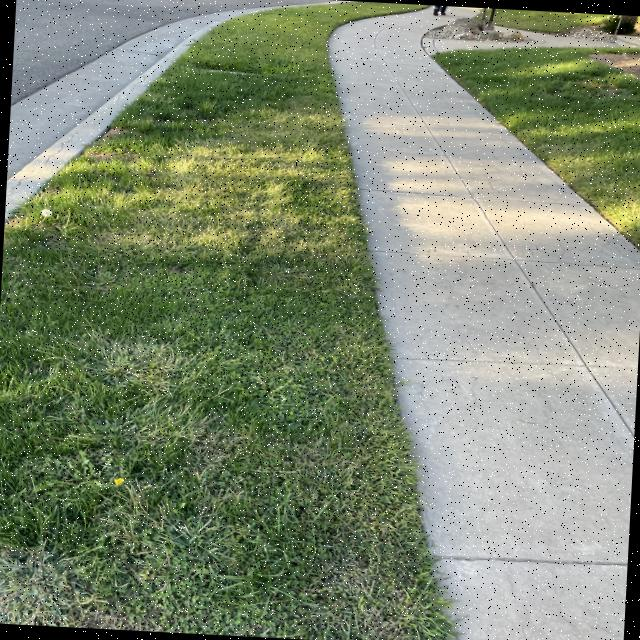road: (12, 30, 170, 100), (20, 0, 182, 60), (8, 74, 124, 154)
walkway: (367, 231, 640, 348), (356, 162, 606, 256), (396, 380, 636, 474), (390, 315, 640, 399), (418, 446, 634, 534), (346, 116, 526, 180), (336, 70, 488, 144), (332, 39, 432, 77), (359, 18, 425, 50)
walkway-edge: (366, 392, 478, 640), (352, 283, 432, 447), (327, 180, 401, 306), (315, 88, 372, 204), (569, 191, 640, 253), (430, 51, 494, 106), (319, 36, 358, 122), (533, 164, 600, 212), (322, 11, 374, 32)
